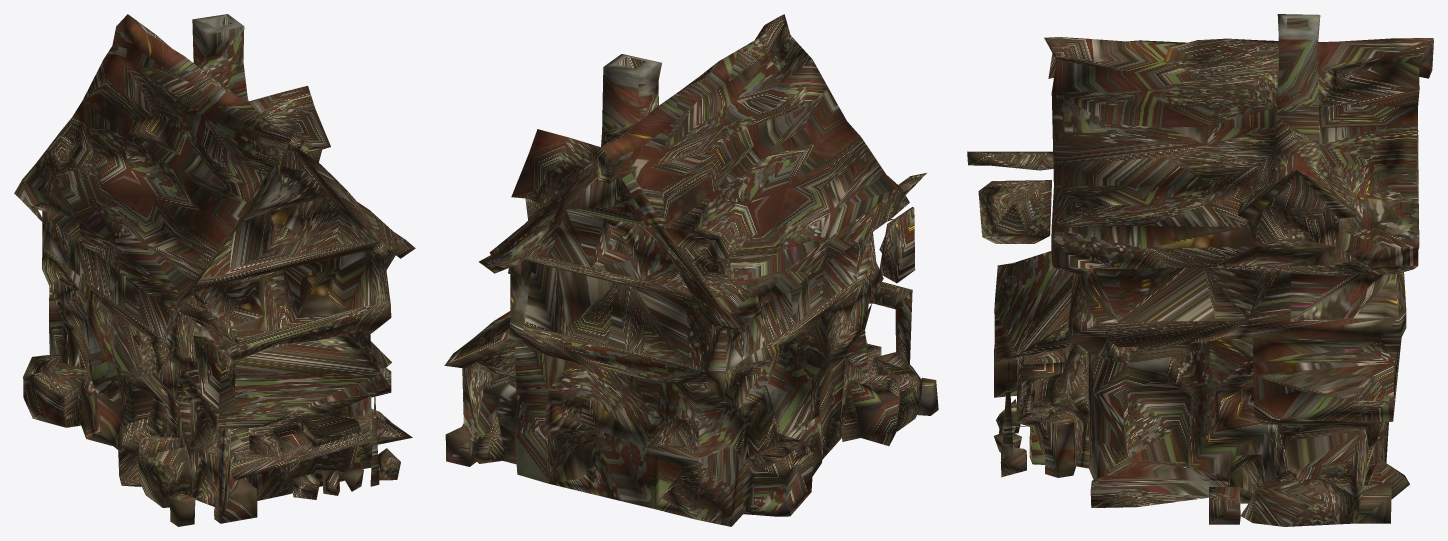
File: Timbered_Market_House.glb
3 views of the same model, side by side, from view 1: azimuth 30°, elevation 25°; view 2: azimuth 150°, elevation 25°; view 3: azimuth 270°, elevation 25° (orthographic). The views are drawn at different scales.
Parts seen in each view (by area): view 1: Timbered_Market_House; view 2: Timbered_Market_House; view 3: Timbered_Market_House.
Boxes of the visible parts, left/top/right/bottom form: Timbered_Market_House: left=14, top=14, right=415, bottom=526; Timbered_Market_House: left=444, top=14, right=938, bottom=526; Timbered_Market_House: left=967, top=14, right=1433, bottom=526.
Size of the model in its own units: 1.74 by 1.9 by 1.88.
1 material, 1 textured.
